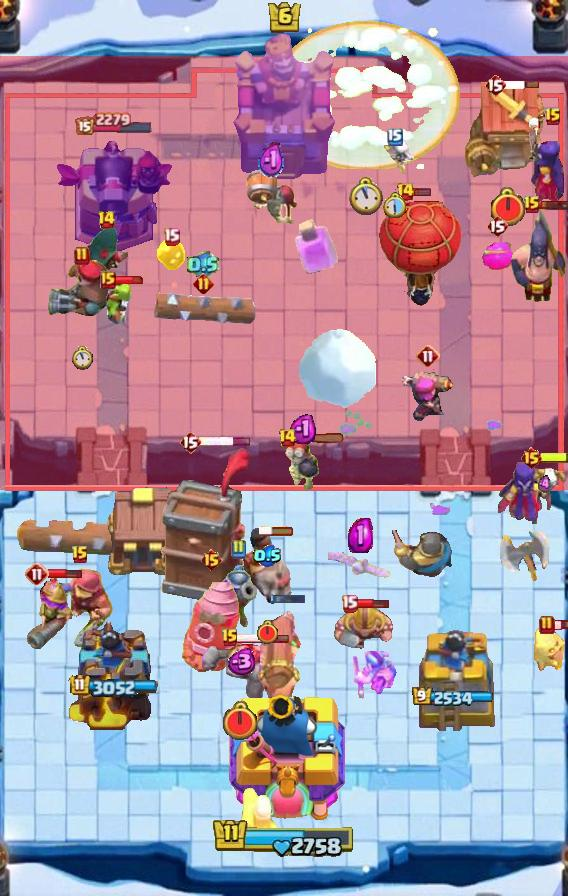axe: (499, 531, 551, 583)
bandit: (82, 227, 130, 273)
bar: (236, 633, 290, 644), (199, 436, 252, 447), (294, 433, 346, 444), (259, 525, 295, 537), (355, 598, 390, 610), (48, 568, 83, 580), (271, 594, 306, 605), (540, 451, 568, 464), (504, 80, 540, 90), (539, 199, 568, 211), (114, 275, 146, 285), (413, 187, 432, 197), (553, 619, 568, 631)
bar-level: (25, 562, 49, 586), (416, 344, 440, 368), (200, 548, 223, 572), (520, 446, 543, 470), (179, 430, 201, 454), (486, 214, 508, 238), (484, 73, 506, 97), (193, 273, 214, 294), (278, 428, 297, 448), (97, 210, 116, 230), (396, 182, 415, 202), (221, 628, 239, 648), (71, 545, 89, 565), (523, 195, 541, 215), (544, 107, 562, 127), (341, 594, 358, 613), (163, 227, 180, 246), (539, 615, 555, 635), (230, 539, 246, 559), (74, 246, 90, 266), (100, 271, 116, 289), (387, 128, 403, 146)
bat-evolution: (328, 548, 392, 580)
bomber: (284, 438, 320, 492)
cannoneer-tower: (53, 138, 175, 256)
clock: (221, 701, 259, 742), (489, 187, 527, 228), (349, 177, 383, 216), (383, 192, 408, 219), (256, 620, 279, 645), (72, 346, 93, 370)
elite-barbarian: (333, 602, 395, 650)
elixir: (258, 141, 285, 181), (187, 251, 219, 279), (224, 648, 257, 675), (348, 518, 373, 553), (289, 412, 316, 444), (253, 545, 282, 567), (538, 475, 551, 494)
elixir-golem-small: (481, 240, 513, 270)
executioner: (510, 203, 568, 303)
fire-spirit: (154, 235, 188, 273)
firecracker: (399, 369, 457, 423), (239, 785, 281, 843)
goblin: (103, 277, 139, 327)
golemite: (201, 640, 279, 704)
heal-spirit: (532, 625, 568, 675)
hunter: (45, 259, 119, 321)
king-tower: (223, 689, 345, 826), (231, 34, 338, 181)
king-tower-bar: (212, 817, 356, 859)
knight: (392, 530, 455, 578)
musketeer: (22, 575, 78, 653), (219, 562, 257, 628)
queen-tower: (403, 621, 503, 731), (66, 617, 162, 731)
ram-rider: (237, 528, 297, 604)
skeleton: (375, 134, 416, 174)
spear-goblin: (350, 650, 398, 702)
the-log: (14, 514, 142, 560), (150, 292, 257, 328)
tower-bar: (70, 674, 158, 697), (75, 111, 154, 135), (412, 687, 494, 708)
wall-breaker: (243, 168, 299, 226)
witch: (498, 462, 568, 524), (522, 115, 568, 203)
